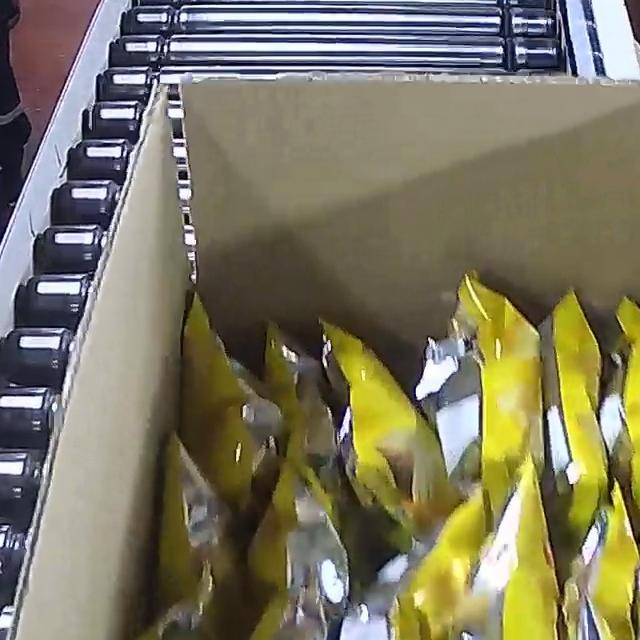salted: (103, 268, 640, 640)
